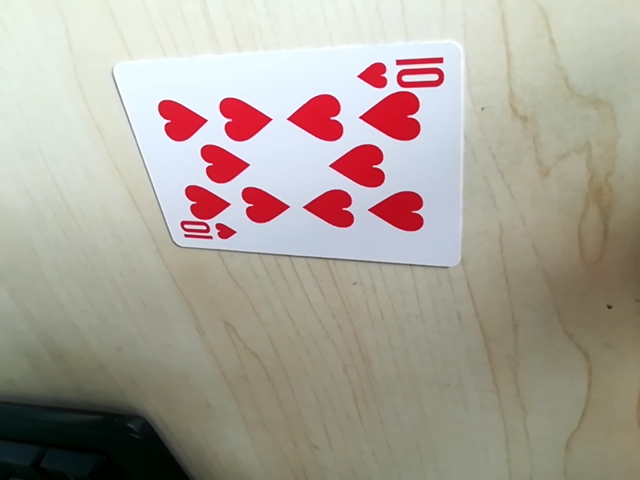hx 10: (359, 51, 451, 92), (173, 222, 241, 251)
